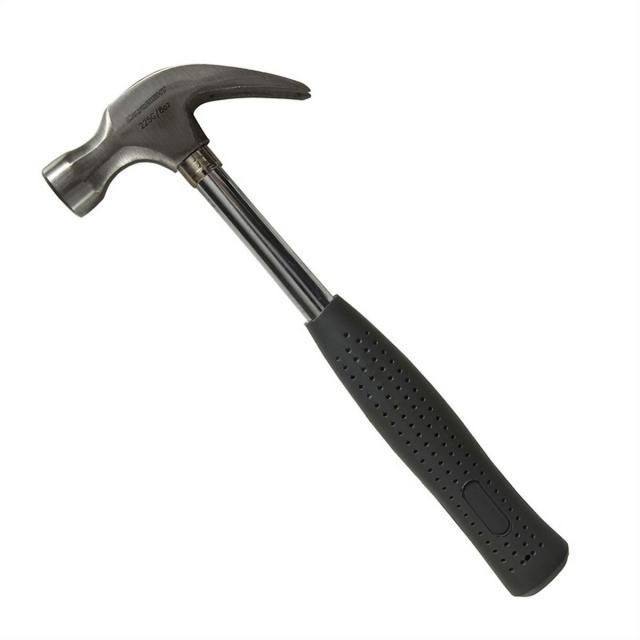hammer: (37, 60, 574, 601)
